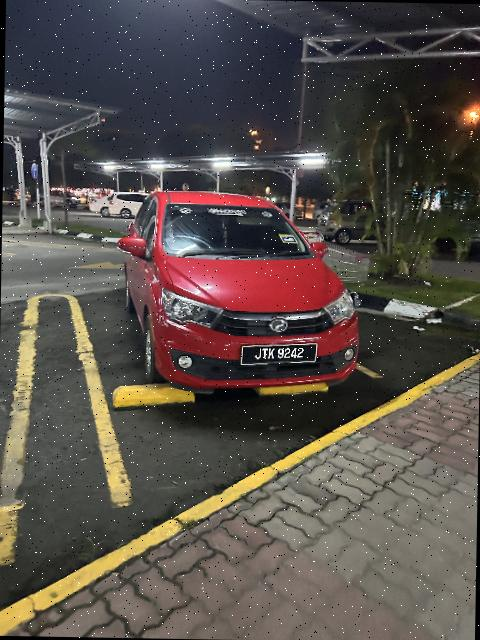License_Plate: (240, 343, 319, 366)
car: (114, 190, 366, 392)
